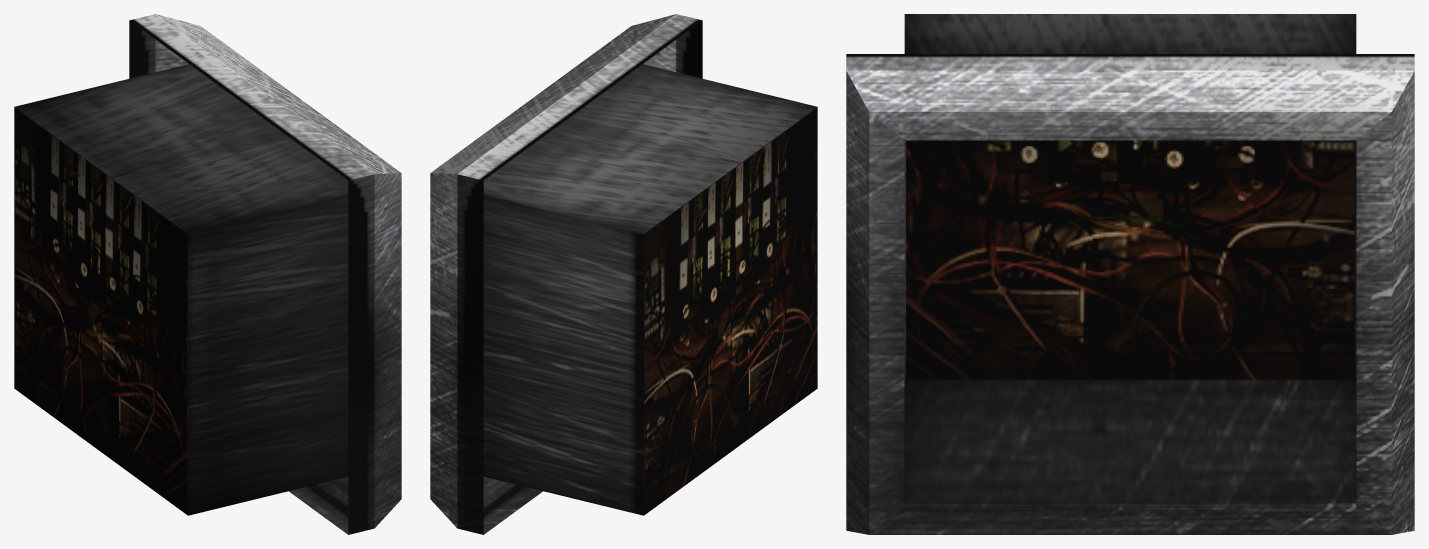
Rendered from GENERATOR_BOX.fbx.
3 views of the same model, side by side, from view 1: azimuth 30°, elevation 25°; view 2: azimuth 150°, elevation 25°; view 3: azimuth 270°, elevation 25° (orthographic). The views are drawn at different scales.
Visible parts, largest first — view 1: polySurface420; view 2: polySurface420; view 3: polySurface420.
Part boxes in pixels (box(x1,y1,x2,y2)): polySurface420: box(14, 14, 401, 534); polySurface420: box(430, 14, 817, 534); polySurface420: box(846, 14, 1414, 534).
Size of the model in its own units: 1.57 by 2.66 by 2.97.
